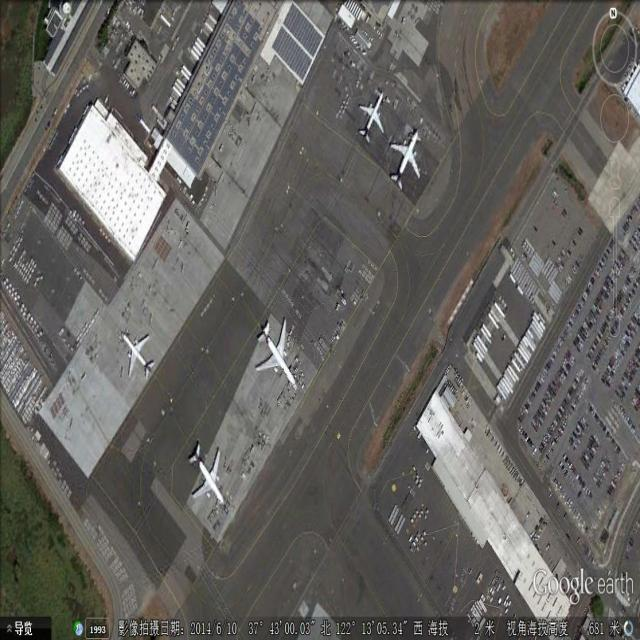aircraft: (253, 316, 297, 392), (187, 439, 226, 509), (390, 129, 426, 196), (122, 329, 158, 383), (357, 89, 388, 148)
